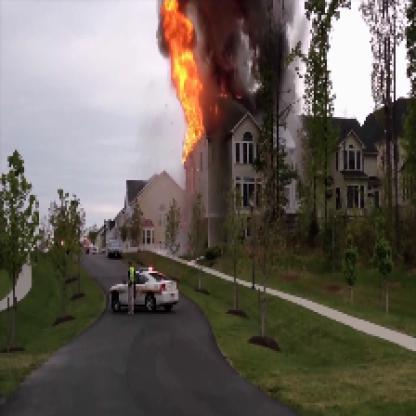Fire: (160, 2, 224, 165)
Smoke: (197, 2, 288, 109)
